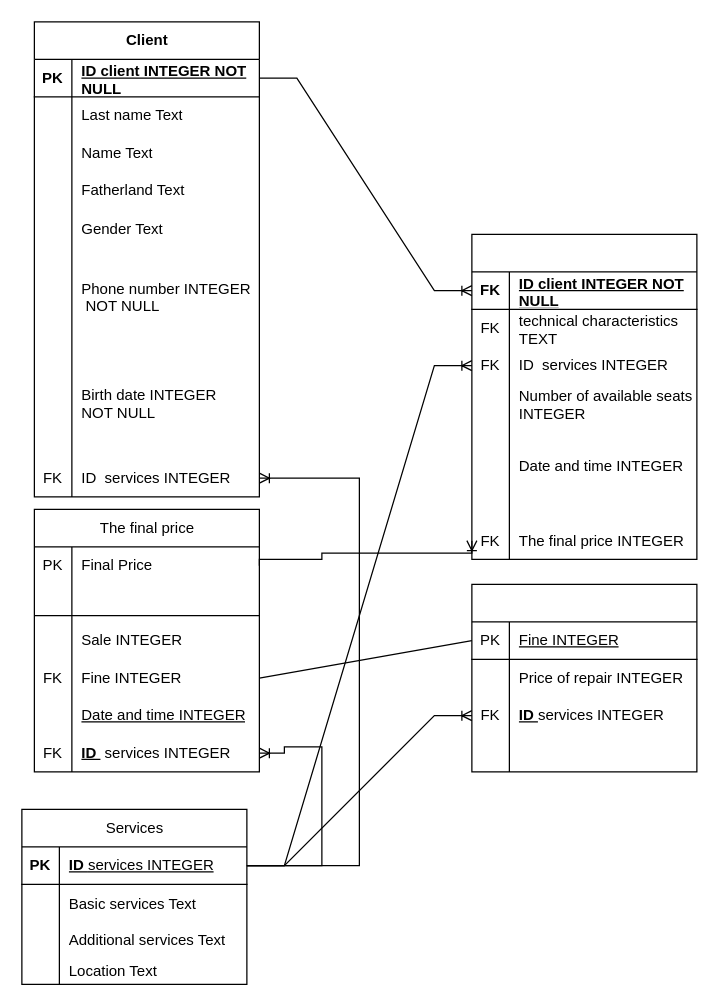
This 719x1006 diagram has some shape labels left out. The shapes that lost their labels are listed below. From the top down, each one's box as (x1, y1, x2, y2) in pixels, then its label:
(471, 233, 697, 559): Administrator
(471, 583, 697, 772): Technical Specialist
